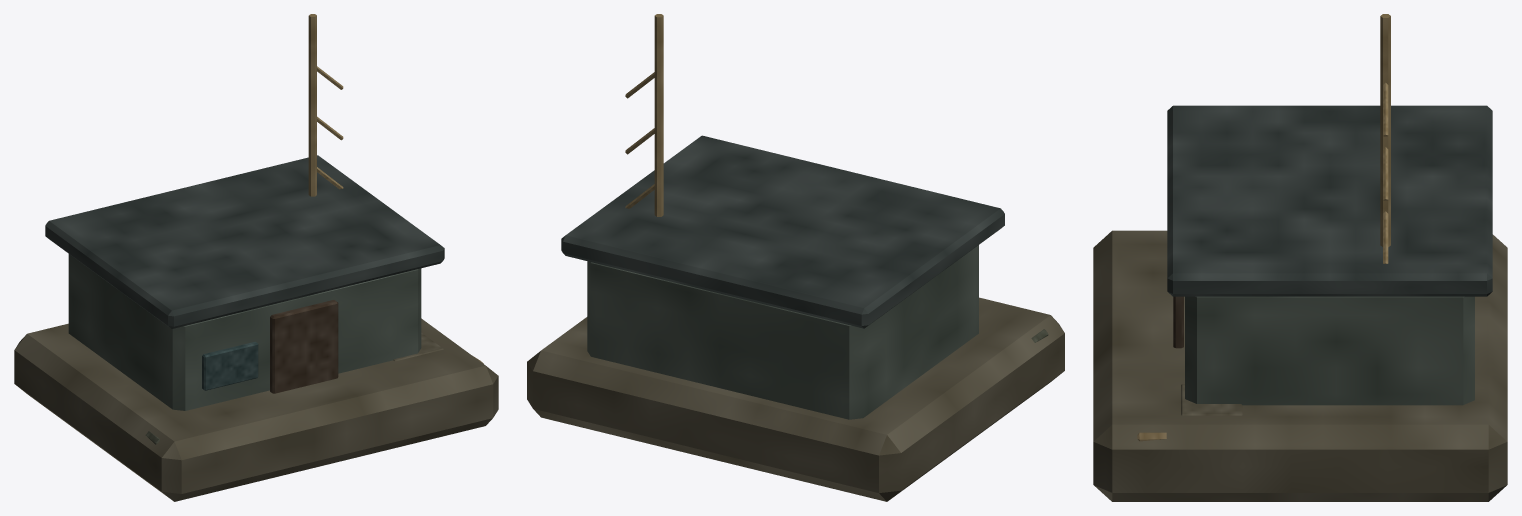
Rendered from MR_FieldCommandPost.fbx.
The picture shows the model from 3 angles, left to right: view 1: azimuth 30°, elevation 25°; view 2: azimuth 150°, elevation 25°; view 3: azimuth 270°, elevation 25°; orthographic projection. The views are drawn at different scales.
Parts seen in each view (by area): view 1: MR_FieldCommandPost; view 2: MR_FieldCommandPost; view 3: MR_FieldCommandPost.
Part boxes in pixels (left/top/right/bottom): MR_FieldCommandPost: left=14, top=14, right=498, bottom=501; MR_FieldCommandPost: left=527, top=14, right=1064, bottom=501; MR_FieldCommandPost: left=1093, top=14, right=1507, bottom=501.
Bounding box in the file's own units: 4.2 × 4.15 × 3.5.
Materials: 1 (1 with a texture image).
